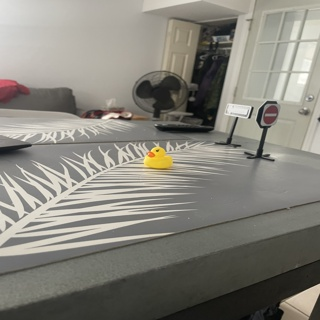duck_regular: (144, 146, 174, 168)
sign_noentry: (263, 103, 279, 126)
